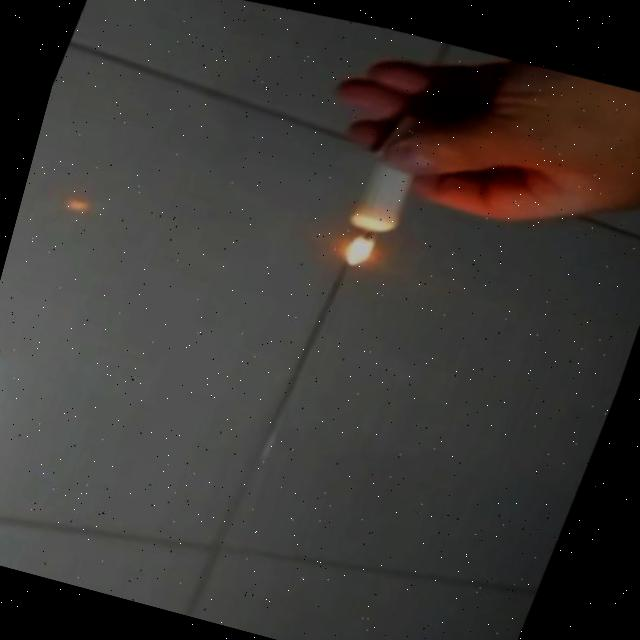fire: (335, 216, 395, 273)
